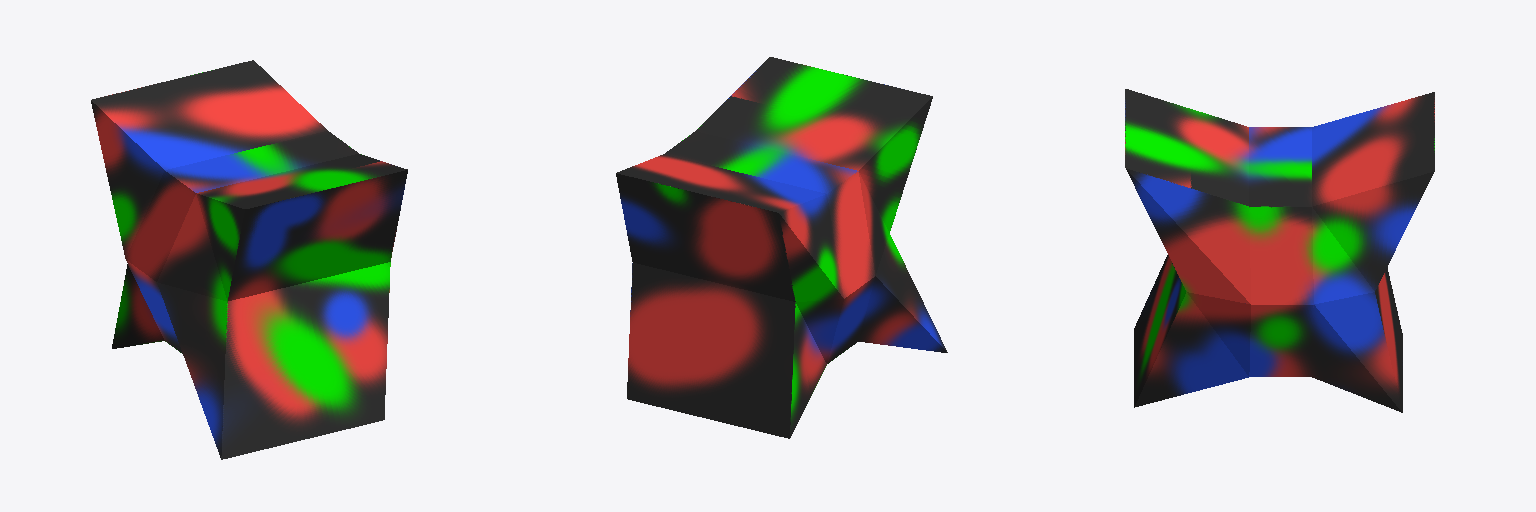
3 views of the same model, side by side, from view 1: azimuth 30°, elevation 25°; view 2: azimuth 150°, elevation 25°; view 3: azimuth 270°, elevation 25° (orthographic).
Visible parts, largest first — view 1: Cube; view 2: Cube; view 3: Cube.
Boxes of the visible parts, x1=… form: Cube: x1=91, y1=60, x2=407, y2=459; Cube: x1=616, y1=57, x2=947, y2=438; Cube: x1=1125, y1=89, x2=1434, y2=412.
Size of the model in its own units: 2.63 by 2.92 by 3.28.
1 materials, 1 textured.